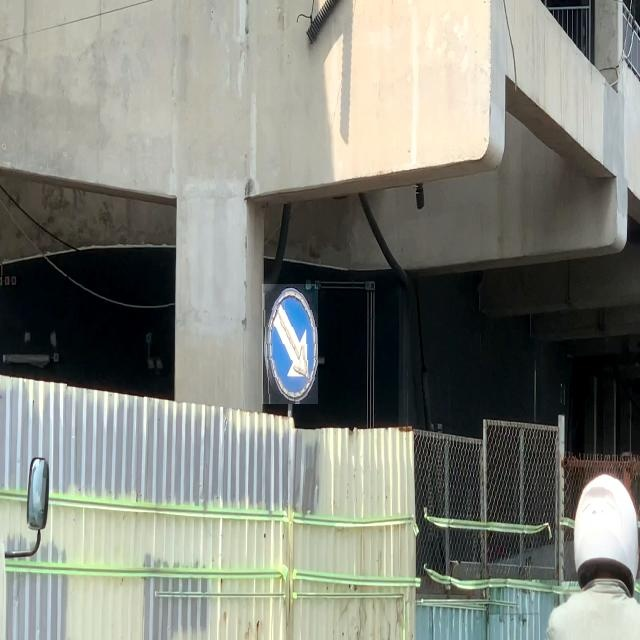bien_hieu_lenh: (262, 284, 318, 404)
